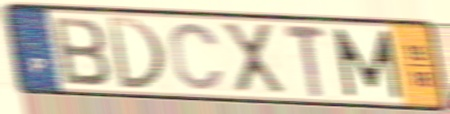B: (49, 14, 113, 88)
C: (168, 20, 227, 93)
D: (104, 14, 169, 93)
M: (330, 26, 405, 101)
T: (281, 22, 330, 100)
X: (218, 21, 289, 96)
